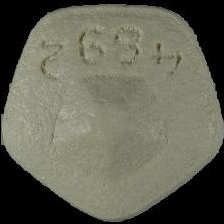63629-3760: (0, 0, 224, 224)
